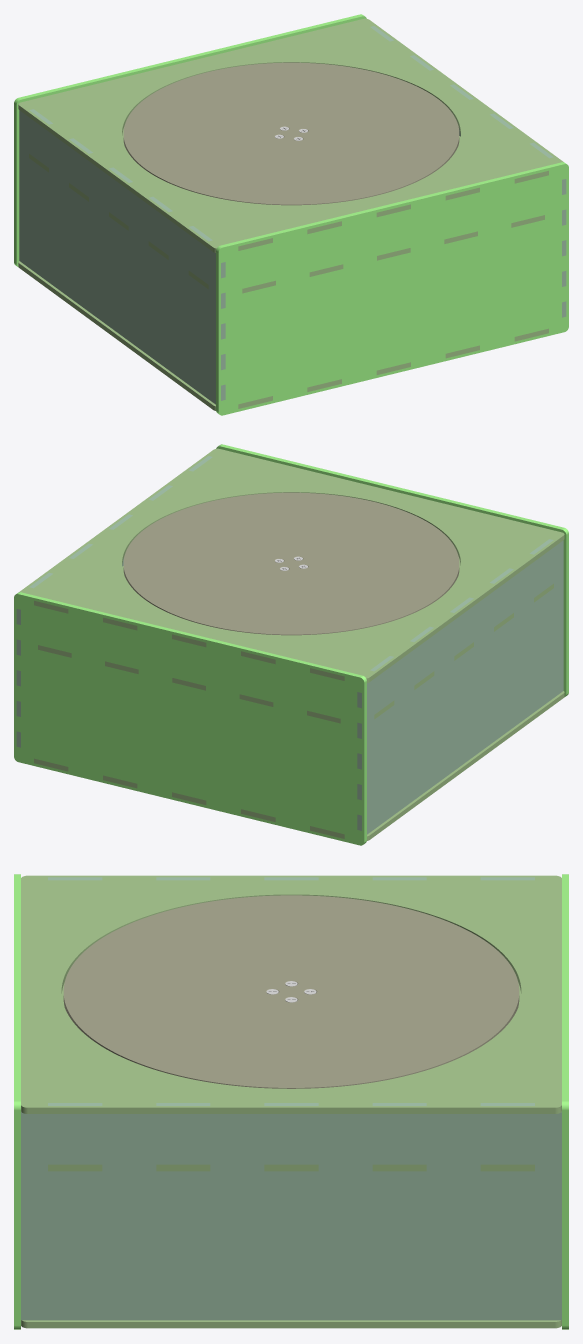
3 renders of one model, top to bottom at view 1: azimuth 30°, elevation 25°; view 2: azimuth 150°, elevation 25°; view 3: azimuth 270°, elevation 25°, orthographic. The views are drawn at different scales.
Visible parts, largest first — view 1: out-left, out-drive-disc, out-top, out-back, out-right, out-bottom, out-mid, out-front; view 2: out-right, out-drive-disc, out-top, out-back, out-left, out-bottom, out-mid, out-front; view 3: out-front, out-drive-disc, out-top, out-bottom, out-right, out-left, out-mid, out-back.
Part boxes in pixels (<box>): out-left: <box>216,162,568,415</box>; out-drive-disc: <box>123,62,459,205</box>; out-top: <box>18,18,563,252</box>; out-back: <box>19,109,225,404</box>; out-right: <box>14,14,366,267</box>; out-bottom: <box>18,261,548,410</box>; out-mid: <box>29,127,544,293</box>; out-front: <box>370,26,566,317</box>; out-right: <box>14,592,366,845</box>; out-drive-disc: <box>123,492,459,635</box>; out-top: <box>19,448,564,682</box>; out-back: <box>357,539,563,834</box>; out-left: <box>216,444,568,697</box>; out-bottom: <box>34,691,564,840</box>; out-mid: <box>38,557,553,723</box>; out-front: <box>16,456,212,747</box>; out-front: <box>21,1103,561,1320</box>; out-drive-disc: <box>63,895,519,1088</box>; out-top: <box>21,875,561,1113</box>; out-bottom: <box>21,1320,561,1328</box>; out-right: <box>562,874,568,1329</box>; out-left: <box>14,874,20,1329</box>; out-mid: <box>48,983,534,1171</box>; out-back: <box>48,877,534,880</box>.
Size of the model in its own units: 0.203 by 0.093 by 0.2052.
